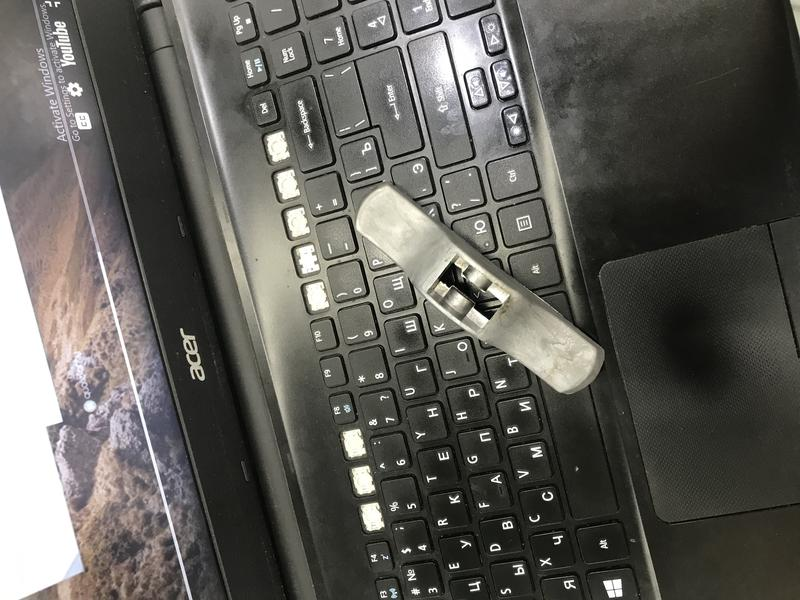zapchast: (347, 175, 615, 402)
